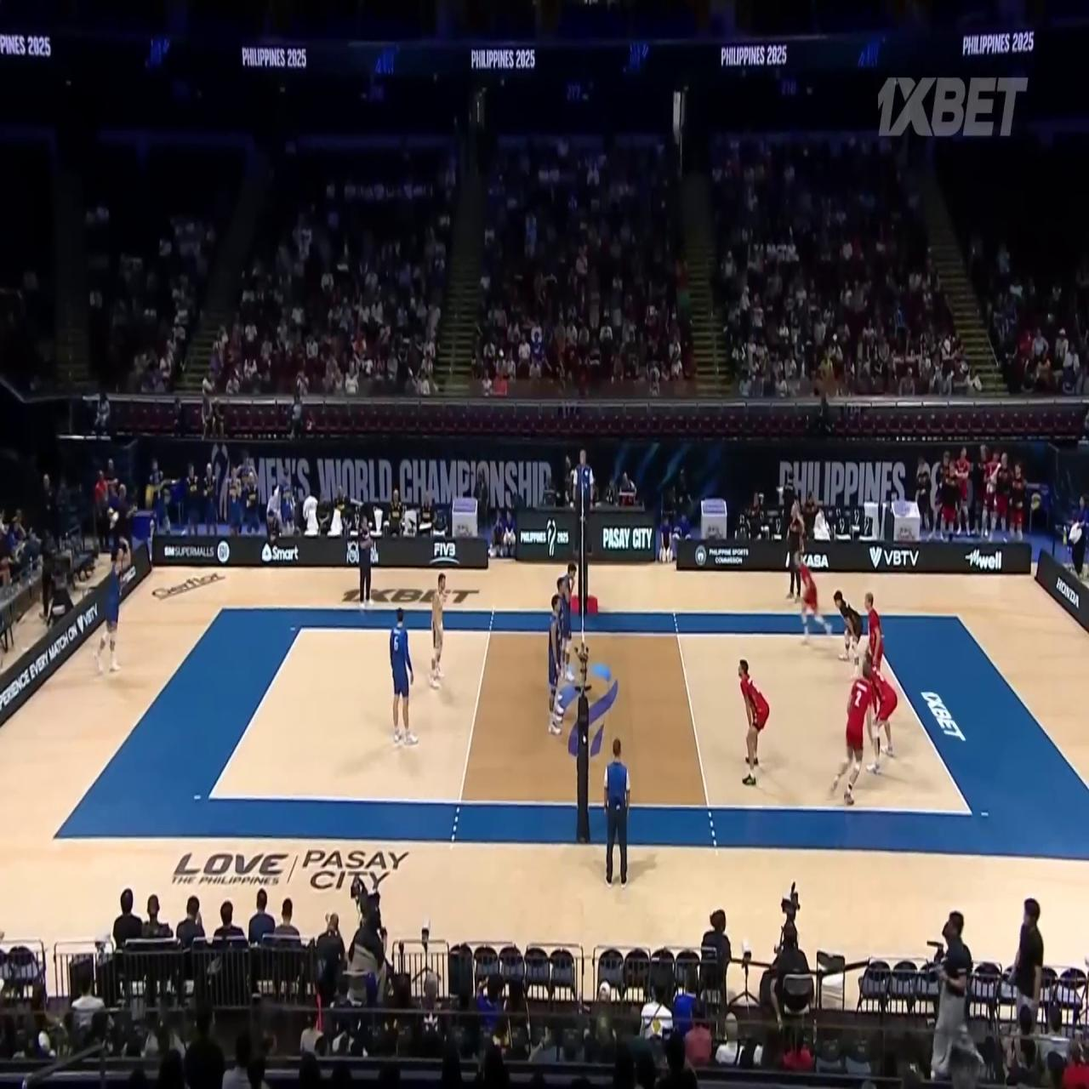ball: (144, 484, 154, 505)
